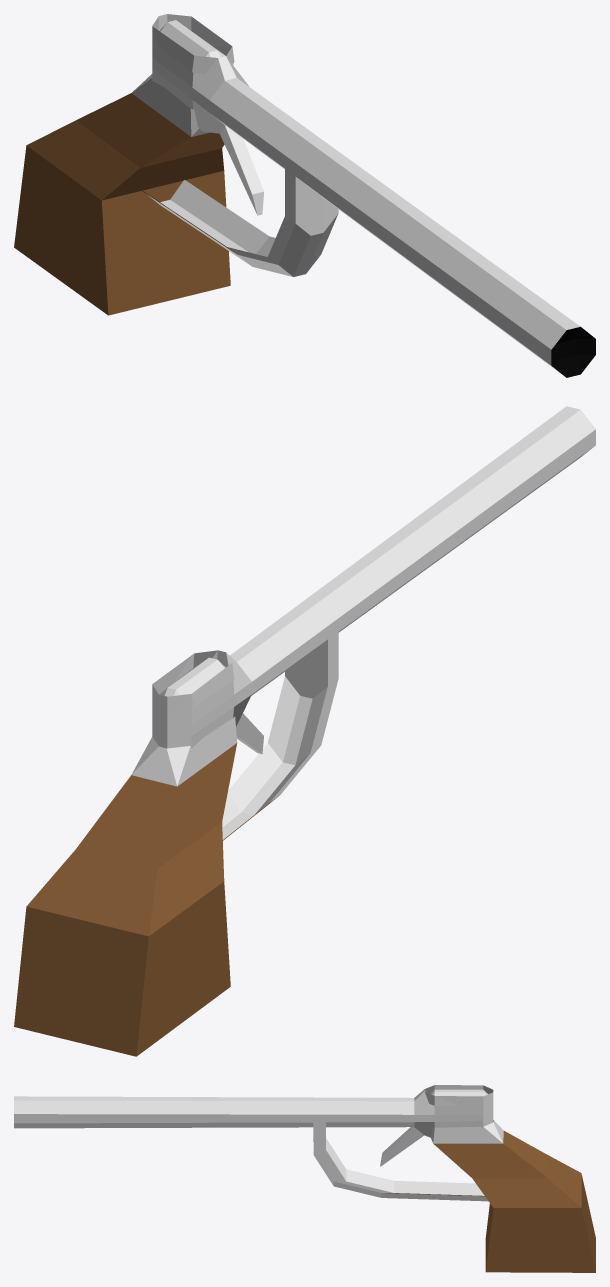
Rendered from Prototype Gun.fbx.
3 renders of one model, top to bottom at view 1: azimuth 30°, elevation 25°; view 2: azimuth 150°, elevation 25°; view 3: azimuth 270°, elevation 25°, orthographic. The views are drawn at different scales.
Visible parts, largest first — view 1: Cube; view 2: Cube; view 3: Cube.
Part boxes in pixels (x1=…): Cube: x1=14, y1=14, x2=595, y2=377; Cube: x1=14, y1=406, x2=595, y2=1056; Cube: x1=14, y1=1085, x2=595, y2=1272.
Size of the model in its own units: 200 by 442 by 1410.
